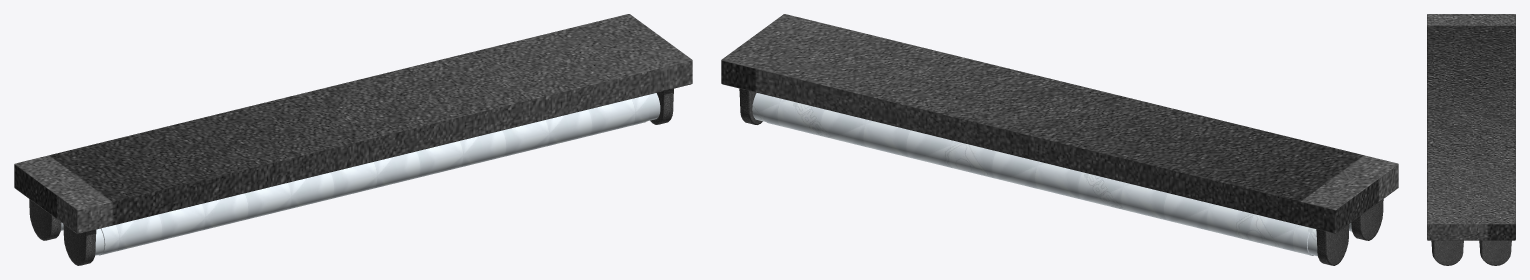
Rendered from rooflamp.fbx.
3 renders of one model, left to right at view 1: azimuth 30°, elevation 25°; view 2: azimuth 150°, elevation 25°; view 3: azimuth 270°, elevation 25°, orthographic. The views are drawn at different scales.
Parts seen in each view (by area): view 1: boton_2; view 2: boton_2; view 3: boton_2.
Boxes of the visible parts, x1,y1,x2,y2 form: boton_2: (14, 14, 692, 265); boton_2: (721, 14, 1398, 265); boton_2: (1427, 14, 1515, 265).
Bounding box in the file's own units: 377 × 39.86 × 67.25.
Materials: 3 (3 with a texture image).
